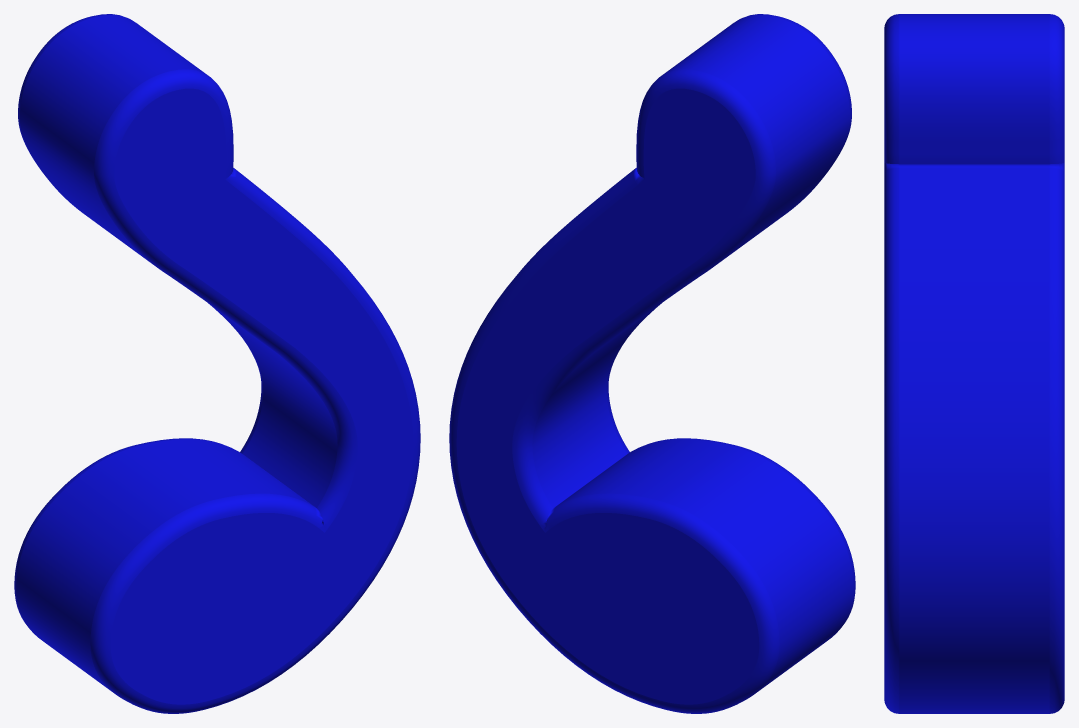
Rendered from bn_number_1.fbx.
3 renders of one model, left to right at view 1: azimuth 30°, elevation 25°; view 2: azimuth 150°, elevation 25°; view 3: azimuth 270°, elevation 25°, orthographic.
Parts seen in each view (by area): view 1: Text; view 2: Text; view 3: Text.
Part boxes in pixels (x1,y1,x2,y2): Text: [14, 14, 420, 713]; Text: [449, 14, 855, 713]; Text: [884, 14, 1064, 713].
Bounding box in the file's own units: 164 × 308 × 76.89.
